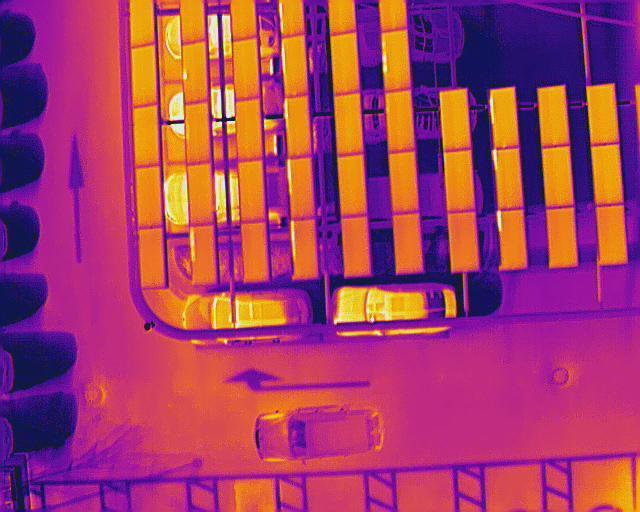Cell: (182, 42, 207, 104)
No-Anomaly: (542, 146, 573, 208), (546, 207, 576, 269), (448, 212, 479, 272), (389, 153, 419, 214), (588, 86, 618, 146), (593, 145, 622, 207), (445, 150, 474, 211), (386, 90, 414, 153), (135, 166, 163, 229), (440, 91, 470, 149), (394, 214, 423, 273), (539, 88, 567, 147), (332, 31, 357, 96), (343, 217, 370, 277), (239, 160, 265, 222), (597, 205, 624, 264), (241, 223, 268, 282), (236, 99, 261, 162), (188, 163, 213, 226), (233, 38, 258, 100), (336, 93, 360, 156), (185, 102, 209, 165), (340, 154, 364, 217), (140, 227, 164, 289), (132, 45, 156, 106), (135, 107, 158, 168)
Unclassified: (493, 148, 523, 209), (497, 209, 527, 269), (382, 31, 411, 92), (490, 88, 518, 148), (190, 225, 217, 284), (287, 157, 313, 218), (283, 97, 309, 157), (291, 219, 316, 279), (282, 37, 306, 97)
